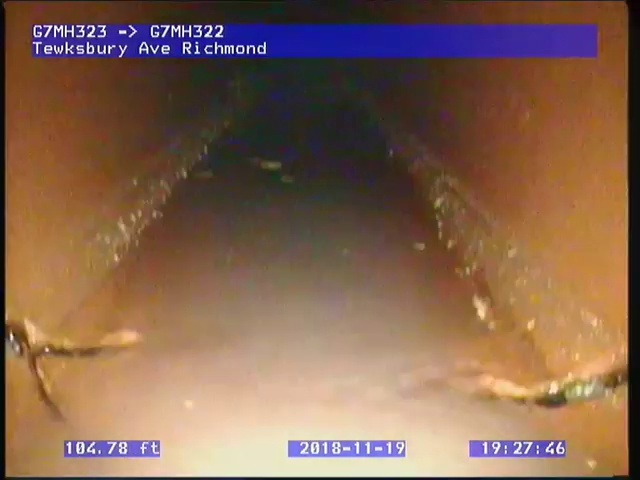crack: (1, 310, 175, 434), (414, 349, 628, 428)
